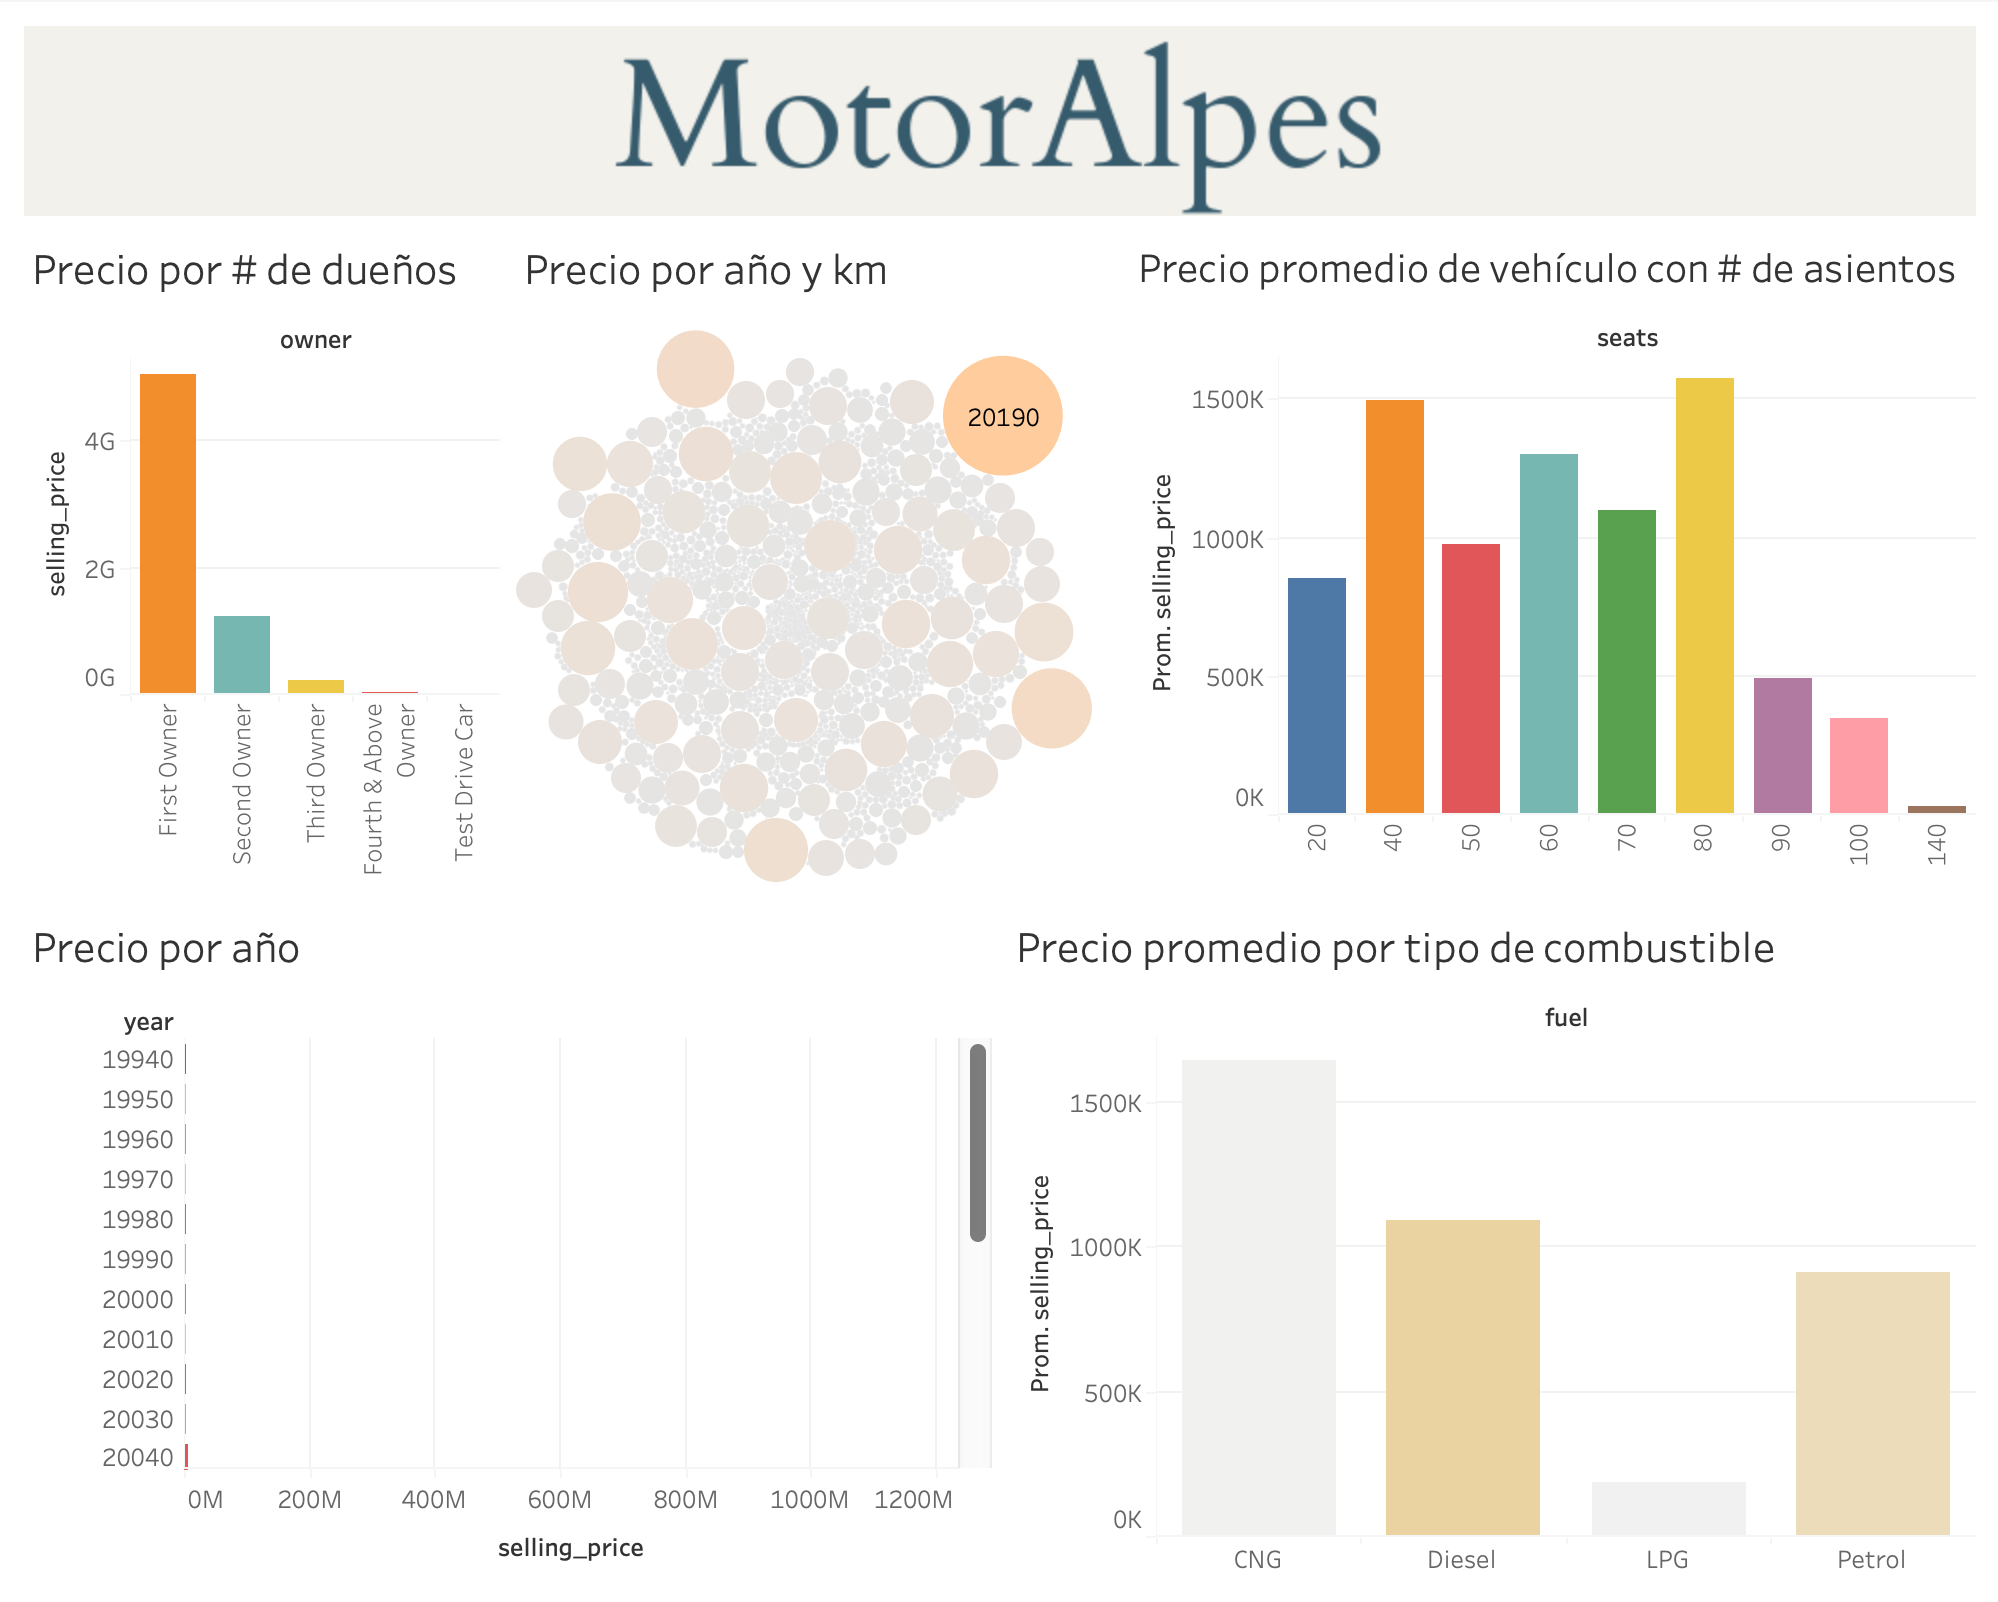

Layout of this report page (visuals, bound fields, positions):
{"tool":"tableau","page":{"name":"Dashboard 1","canvas":[1000,800],"ordinal":0},"visuals":[{"type":"image","param":"/Users/juansebastian/Dropbox/Mac/Downloads/Agregar un título (1).png","box":[8,8,984,103]},{"type":"worksheet","title":"Hoja 1","mark":"Automatic","rows":["selling_price"],"cols":["owner"],"box":[8,111,246,339]},{"type":"worksheet","title":"Hoja 3","mark":"Circle","box":[254,111,307,339]},{"type":"worksheet","title":"Hoja 5","mark":"Automatic","rows":["selling_price"],"cols":["seats"],"box":[561,111,431,339]},{"type":"worksheet","title":"Hoja 2","mark":"Automatic","rows":["year"],"cols":["selling_price"],"box":[8,450,492,342]},{"type":"worksheet","title":"Hoja 4","mark":"Automatic","rows":["selling_price"],"cols":["fuel"],"box":[500,450,492,342]}]}

Visuals, with their boxes in screenshot pixels (x1, y1, x2, y2), scaled from the page's 1000x800 canvas onto the 1998x1602 screenshot:
image: x1=16, y1=16, x2=1982, y2=222
"Hoja 1" worksheet: x1=16, y1=222, x2=507, y2=901
"Hoja 3" worksheet (Circle marks): x1=507, y1=222, x2=1121, y2=901
"Hoja 5" worksheet: x1=1121, y1=222, x2=1982, y2=901
"Hoja 2" worksheet: x1=16, y1=901, x2=999, y2=1586
"Hoja 4" worksheet: x1=999, y1=901, x2=1982, y2=1586
